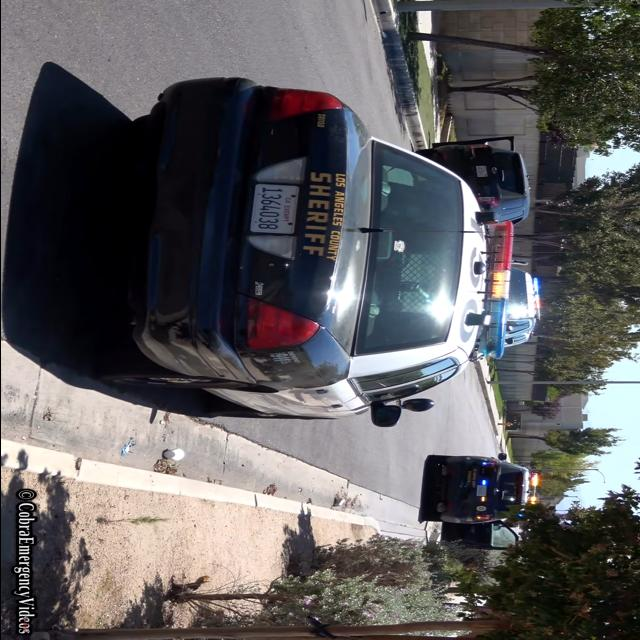emergency-vehicles: (112, 56, 514, 428)
